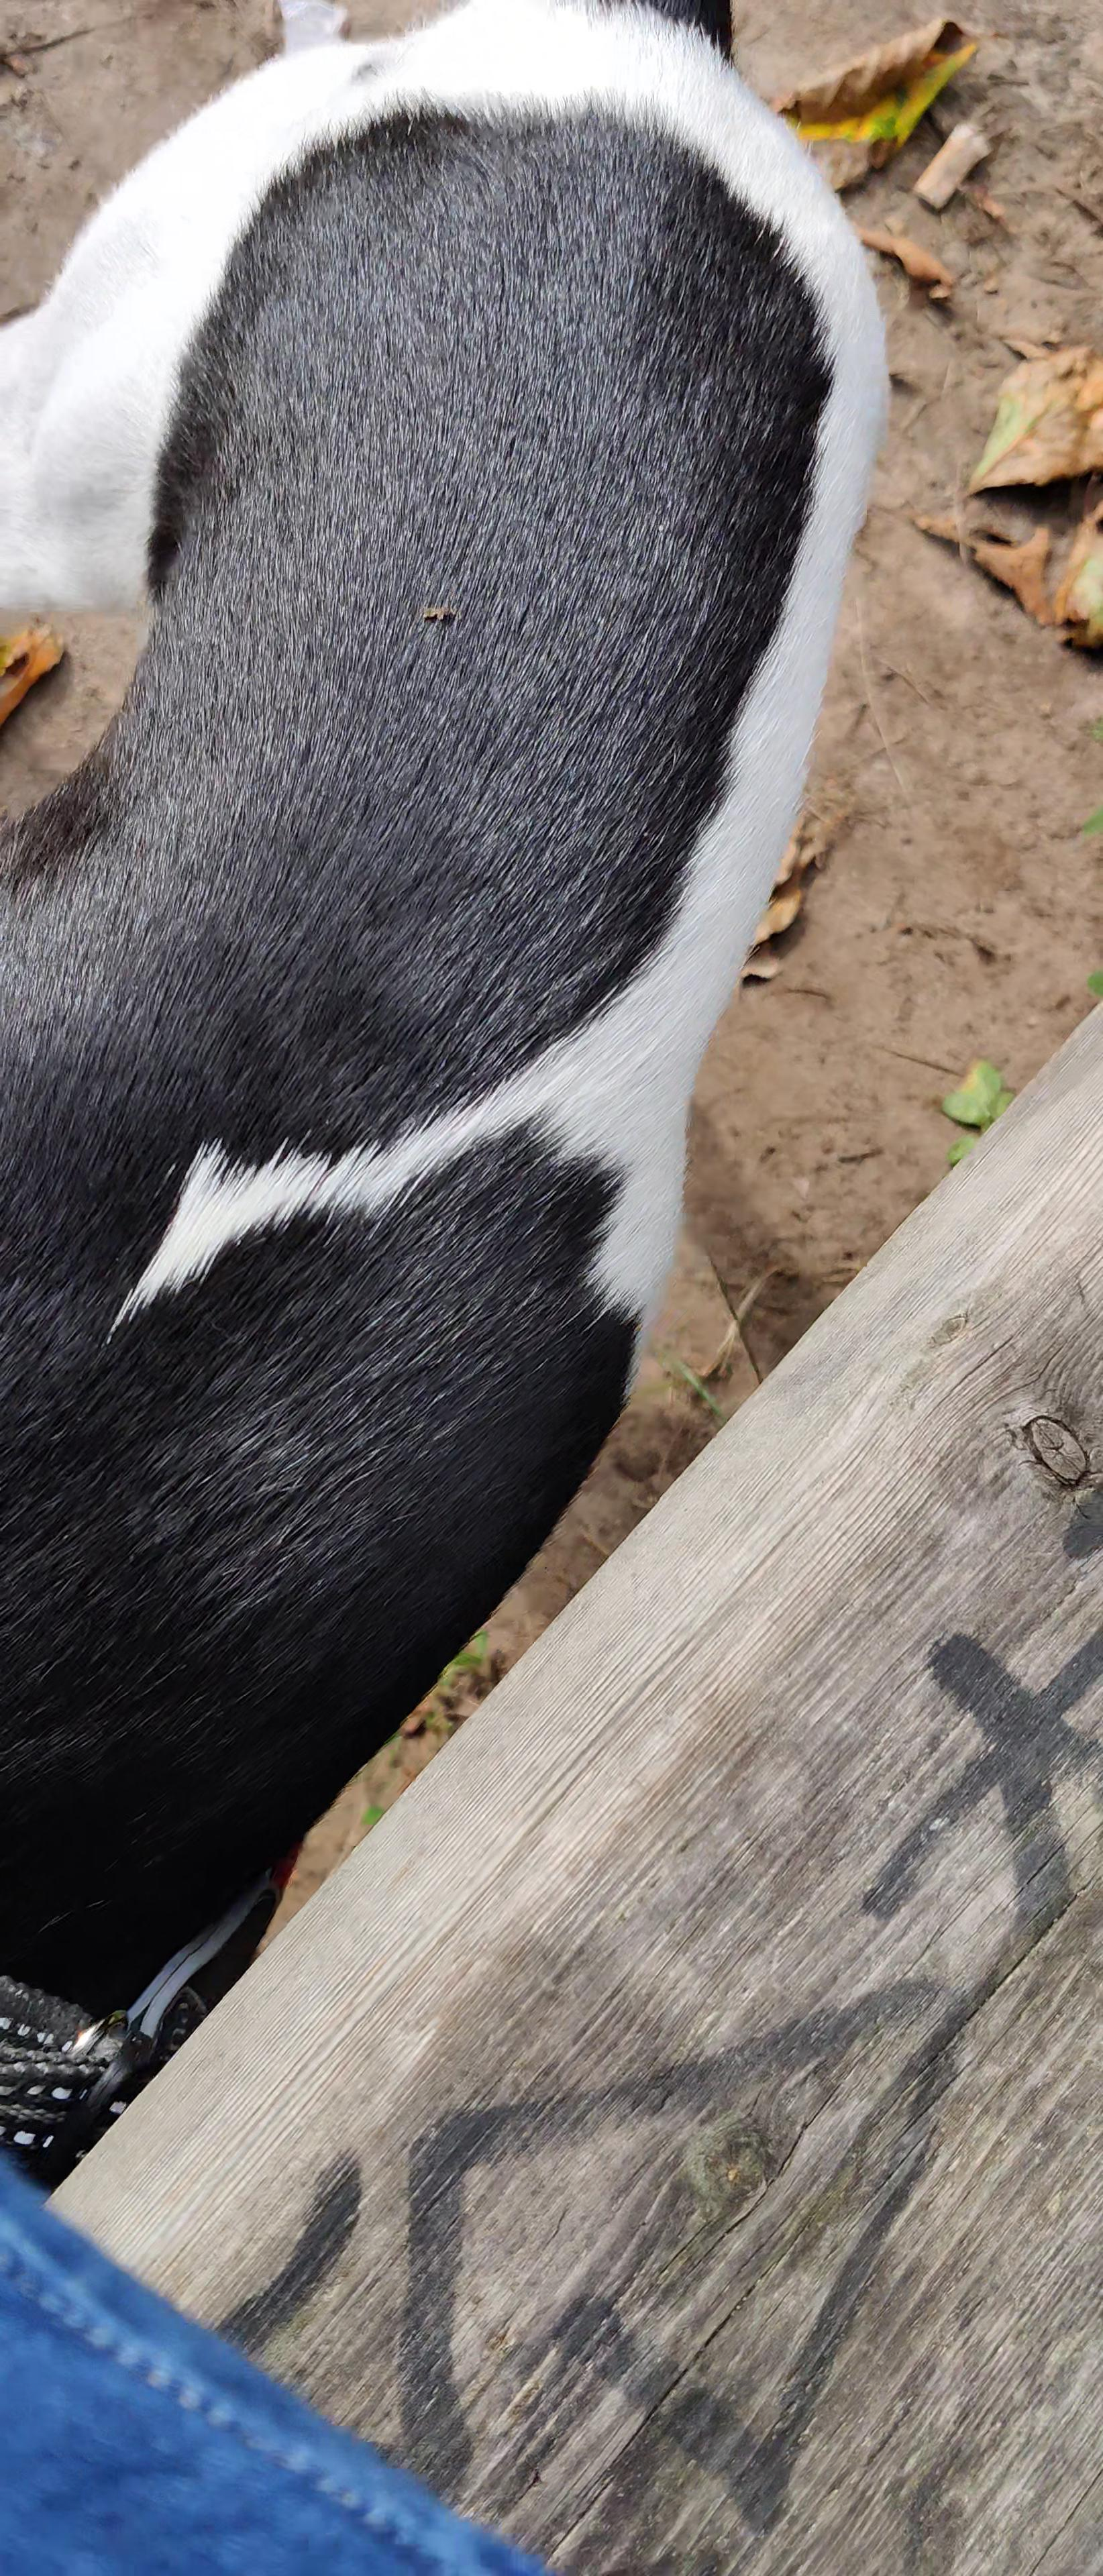Dog: (0, 0, 937, 2198)
